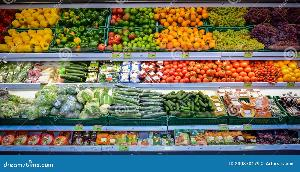bell_pepper: (0, 28, 54, 52), (54, 28, 106, 52), (58, 7, 110, 27), (11, 7, 59, 27)
cucumber: (111, 87, 163, 119), (165, 86, 215, 118)
grape: (252, 24, 300, 50), (213, 26, 261, 51), (248, 7, 300, 27), (210, 6, 248, 24)
lime: (113, 33, 158, 53), (124, 6, 156, 32)
persimmon: (156, 26, 215, 50), (153, 8, 206, 28)
pomegranate: (100, 26, 122, 51)
tomato: (163, 60, 255, 82), (254, 60, 280, 82), (141, 60, 163, 84), (278, 61, 300, 83)
zucchini: (62, 64, 92, 82)
